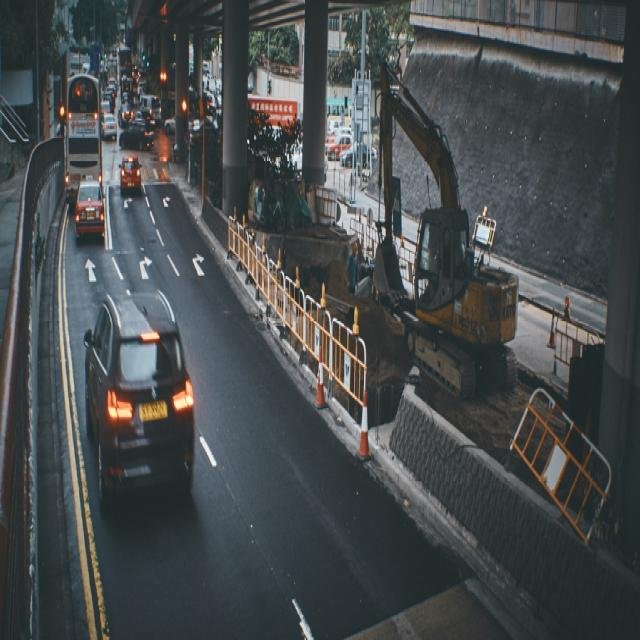car: (83, 285, 193, 520), (74, 175, 104, 244), (117, 116, 152, 153), (118, 156, 142, 195)
